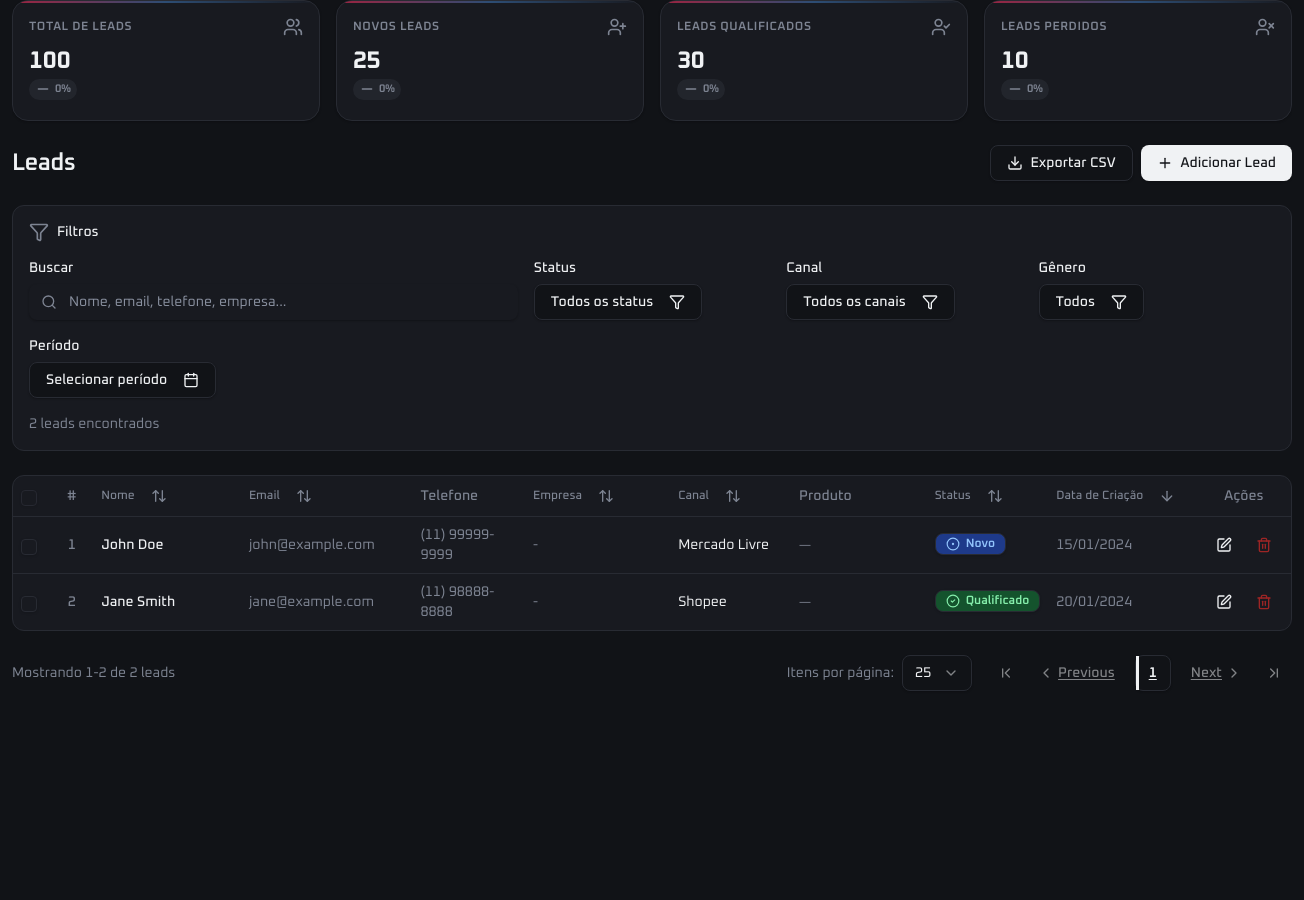
Filter Integration Tests › Clear Filters › should clear all filters when clear button is clicked
Apply multiple filters
Type "John" into the field with placeholder "Nome, email, telefone, empresa..." at (273, 302), box 29,284 -> 518,320
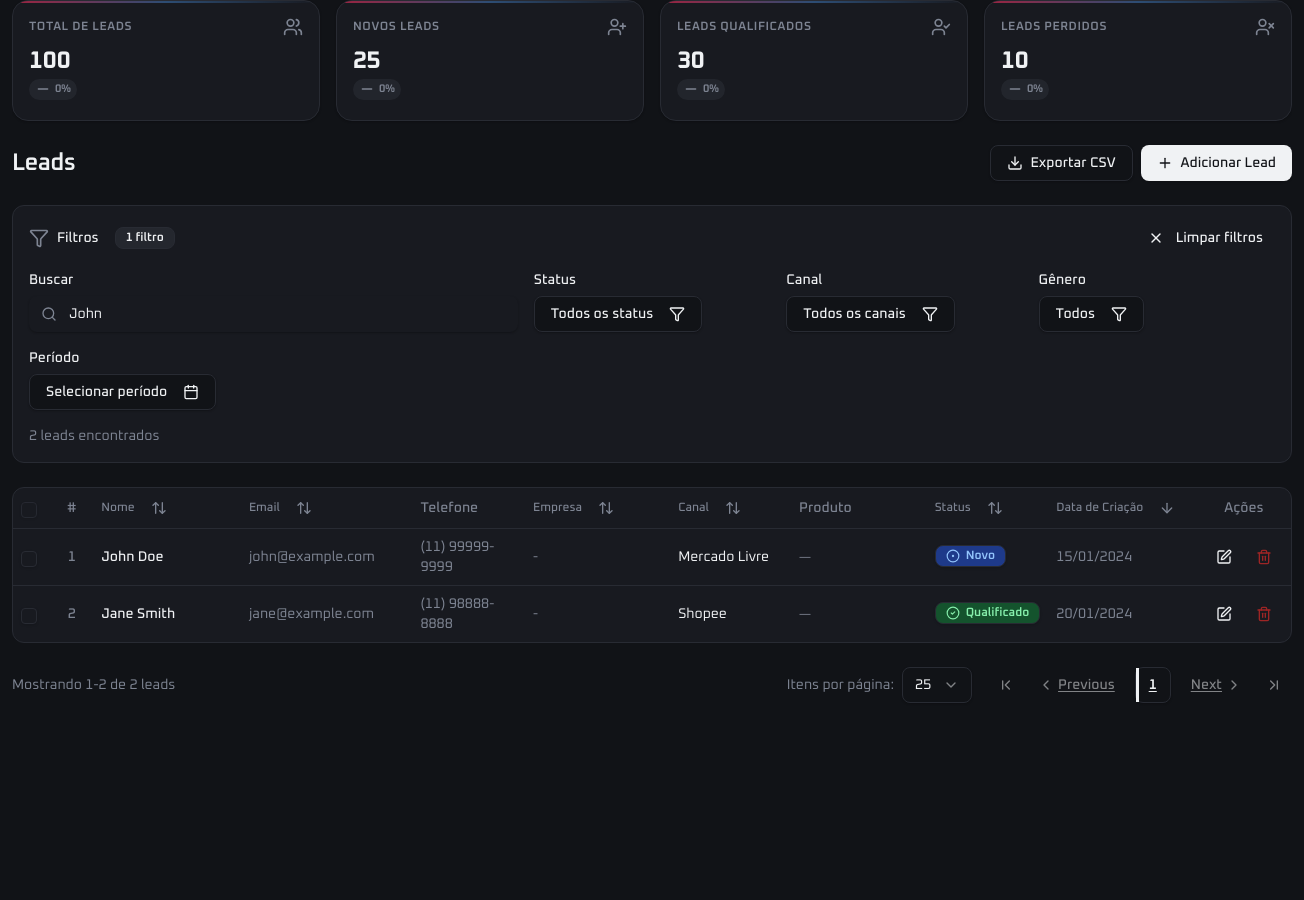
Click the button with aria-label "Filtrar por status" at (618, 314), box 534,296 -> 702,332
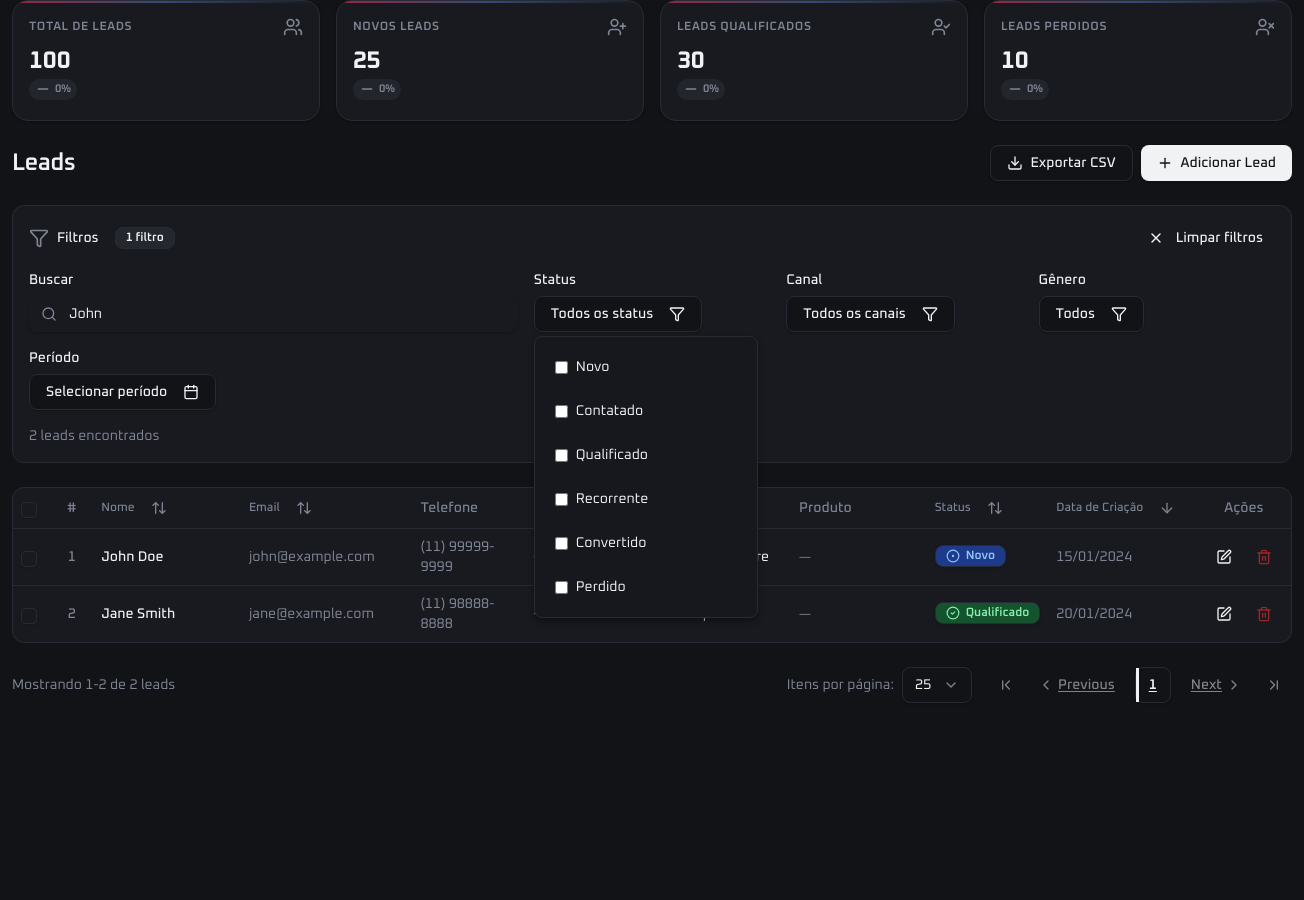
Click the checkbox labelled "Novo" at (561, 367), box 555,361 -> 568,374
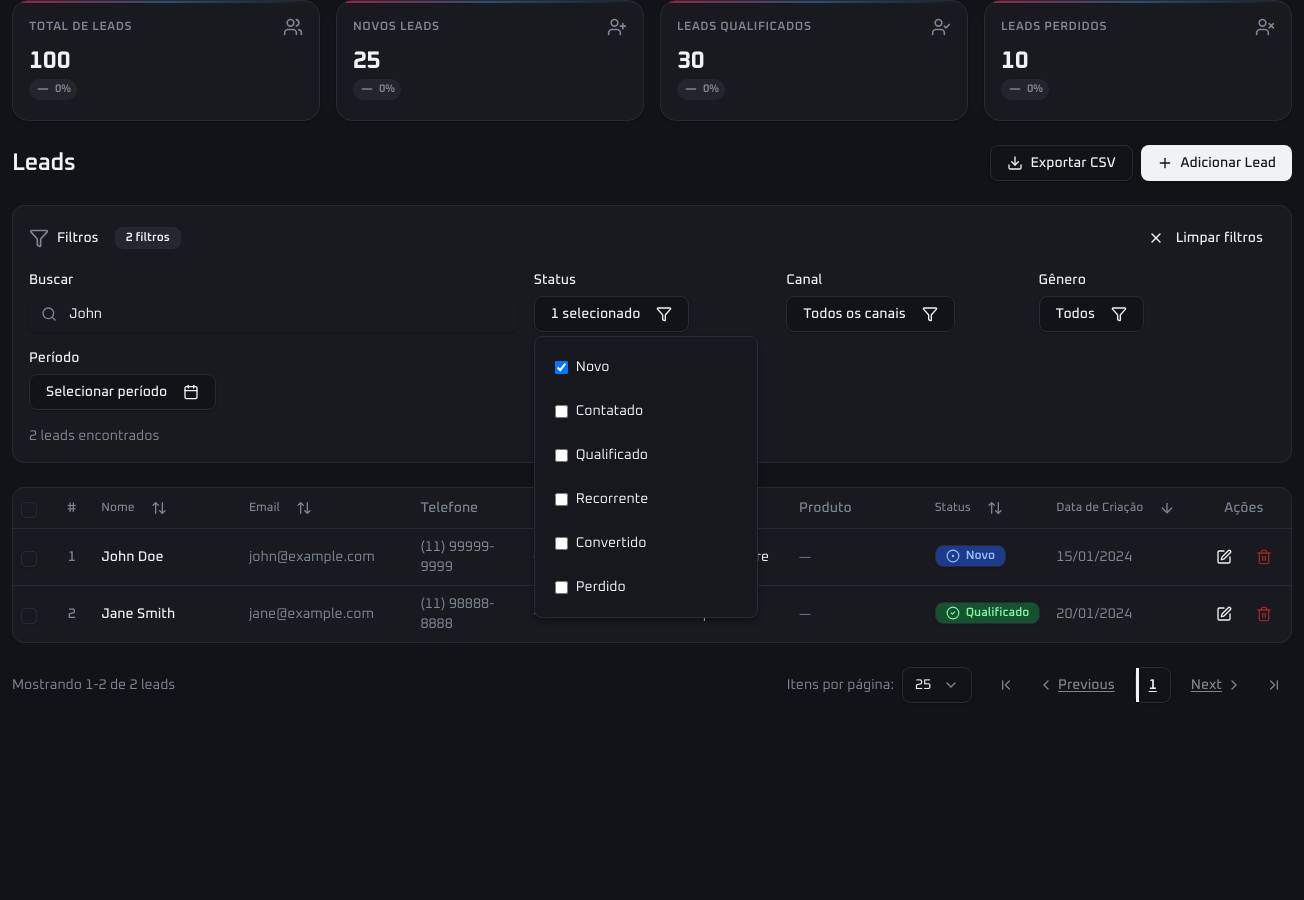
Expected: the button "Limpar filtros" is shown
Click clear button
Click the button "Limpar filtros" at (1205, 238), box 1136,222 -> 1275,254
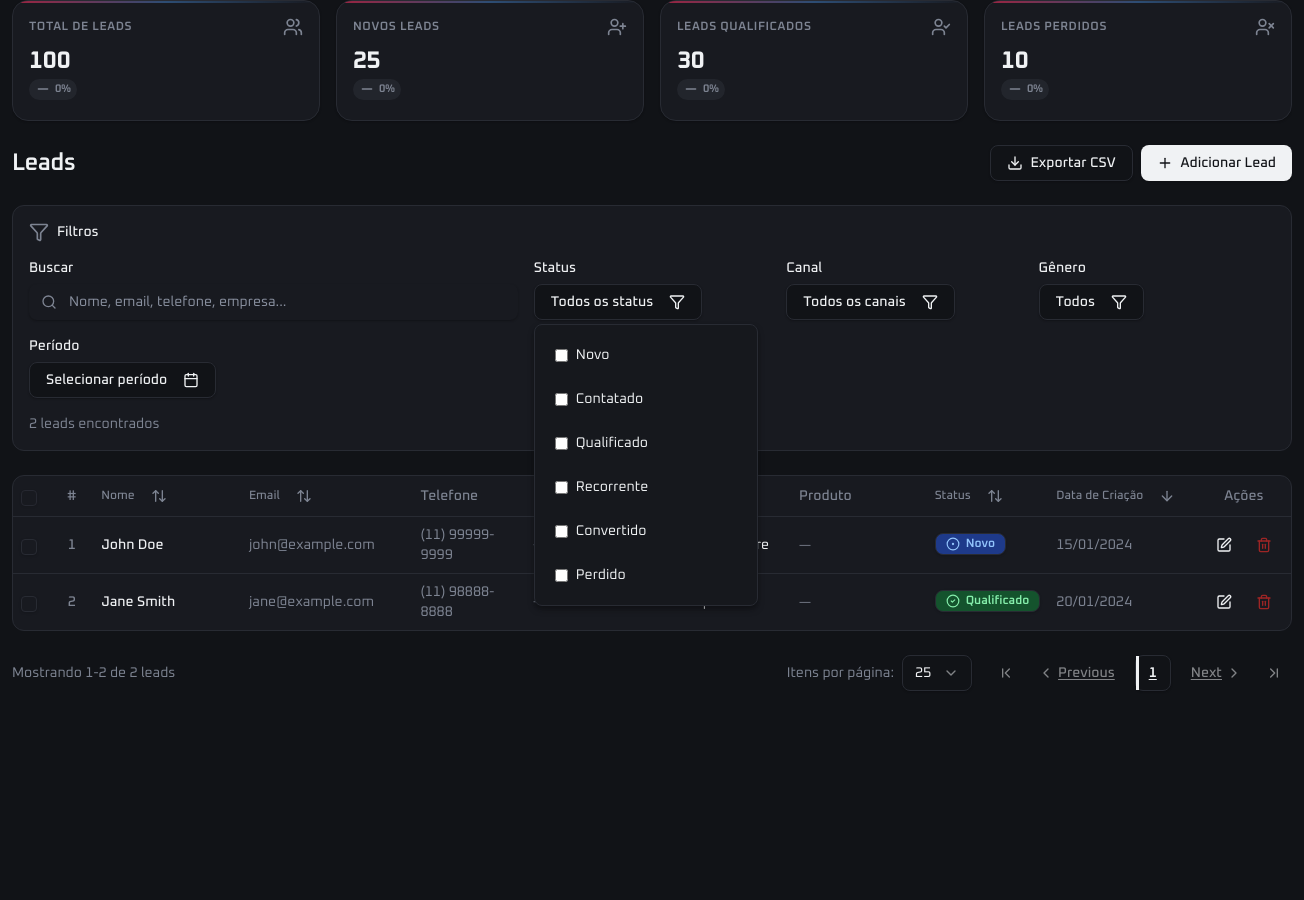
Expected: the field with placeholder "Nome, email, telefone, empresa..." is empty, 29,284 -> 518,320
